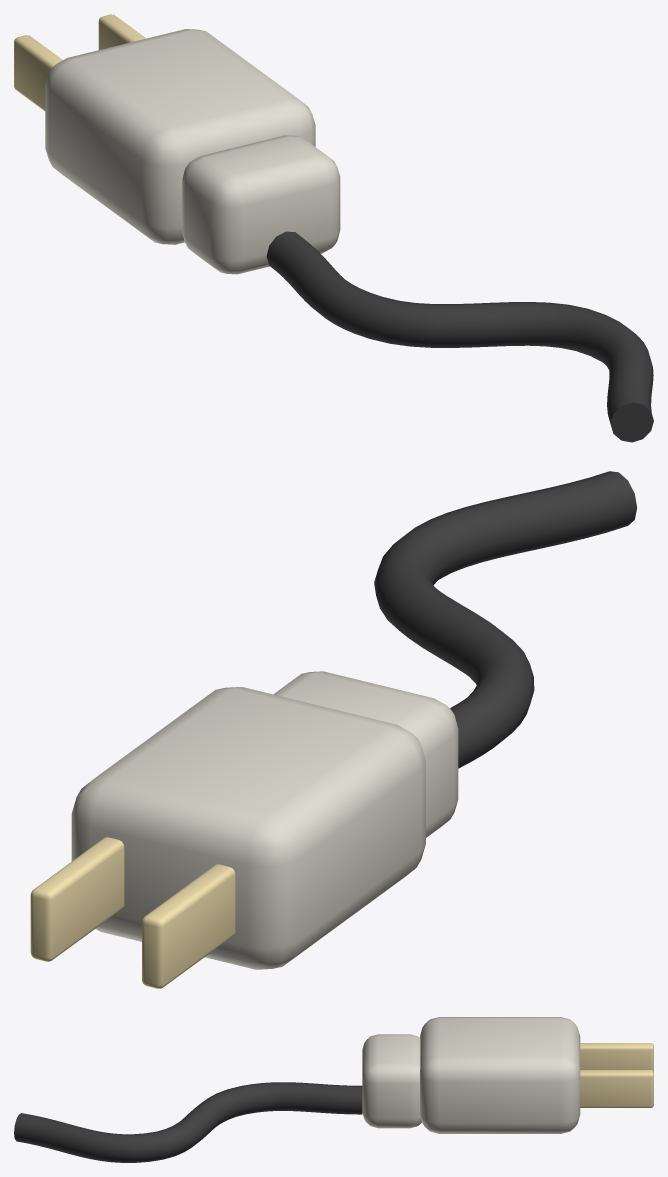
The model's file is Item_PowerPlug.fbx.
3 views of the same model, one above another, from view 1: azimuth 30°, elevation 25°; view 2: azimuth 150°, elevation 25°; view 3: azimuth 270°, elevation 25° (orthographic). The views are drawn at different scales.
Visible parts, largest first — view 1: Item_PowerPlug; view 2: Item_PowerPlug; view 3: Item_PowerPlug.
Part boxes in pixels (left/top/right/bottom): Item_PowerPlug: left=14, top=14, right=653, bottom=442; Item_PowerPlug: left=30, top=471, right=636, bottom=988; Item_PowerPlug: left=14, top=1017, right=653, bottom=1162.
Size of the model in its own units: 0.0602 by 0.026 by 0.1996.
